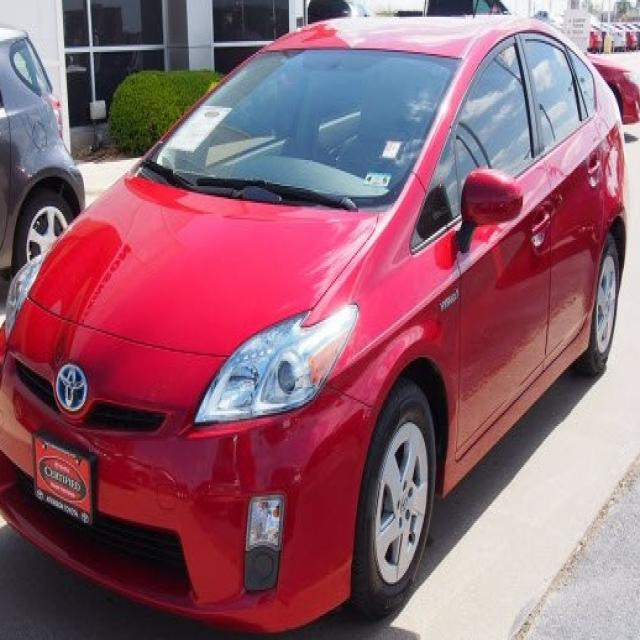red: (0, 8, 633, 610)
